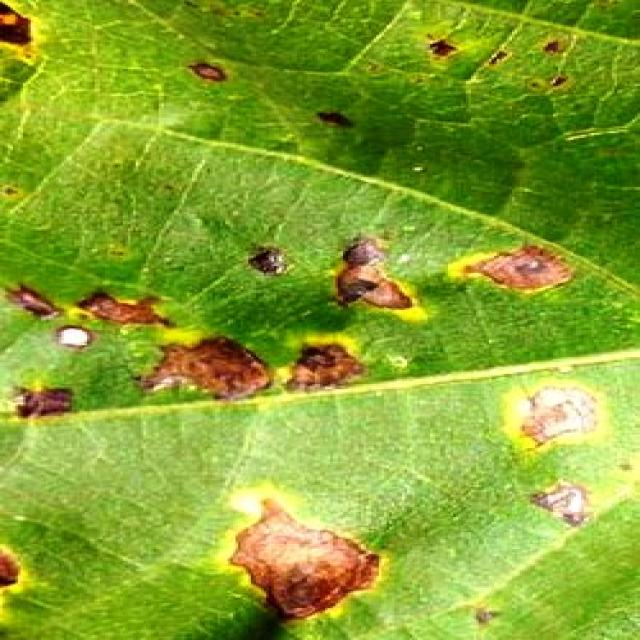Bacterial Blight: (16, 209, 613, 404), (150, 497, 444, 627)
